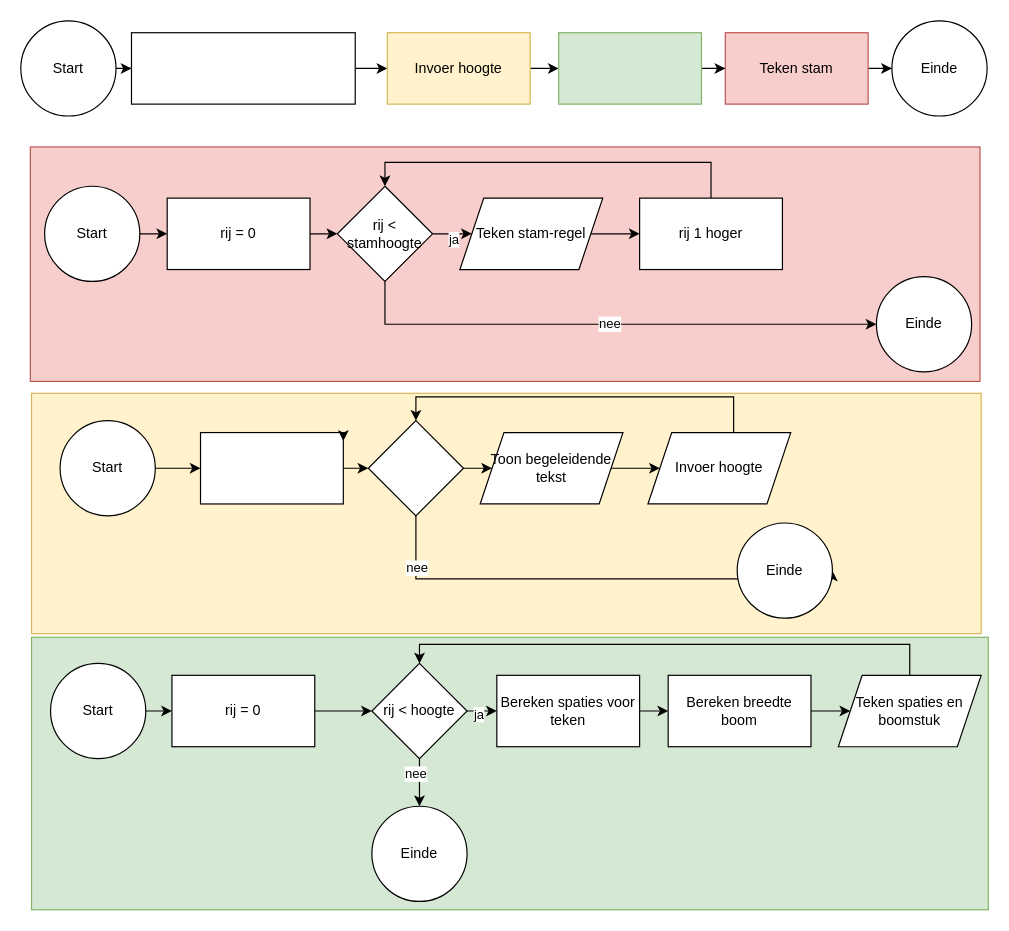
This 1009x931 diagram has some shape labels left out. The centre of each missing label's shape, as x and y in pixels:
hoogte < 3: (415,467)
Hoogte = 0: (271,467)
Maak constanten voor 1. Stamhoogte 2. Teken voor boom ("*"): (242,68)
Teken boom: (630,68)
